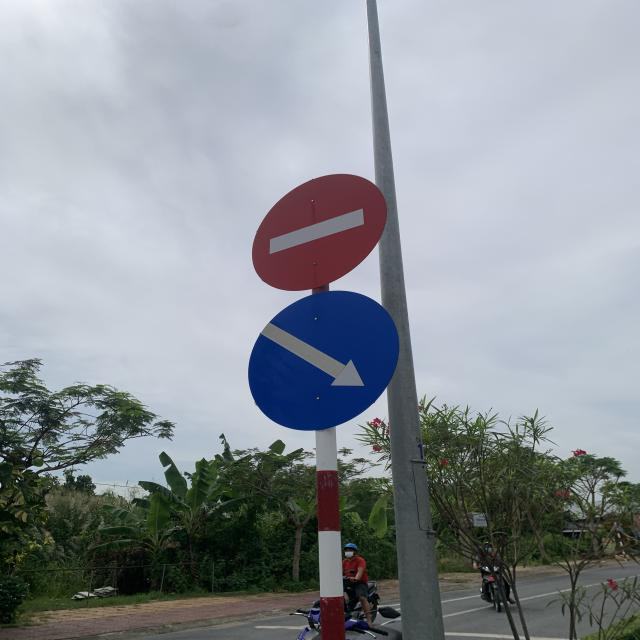Cam_Di_Nguoc_Chieu: (249, 174, 390, 291)
Chi_Huong_Di_Phai: (245, 291, 401, 428)
